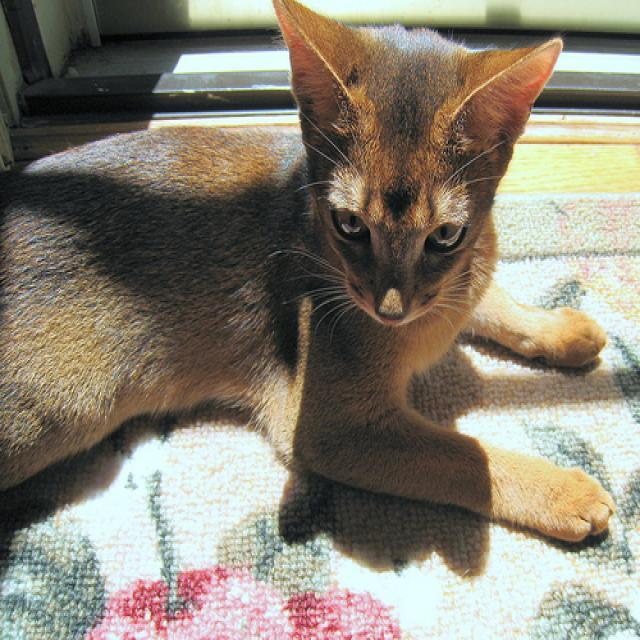Abyssinian: (261, 0, 567, 335)
